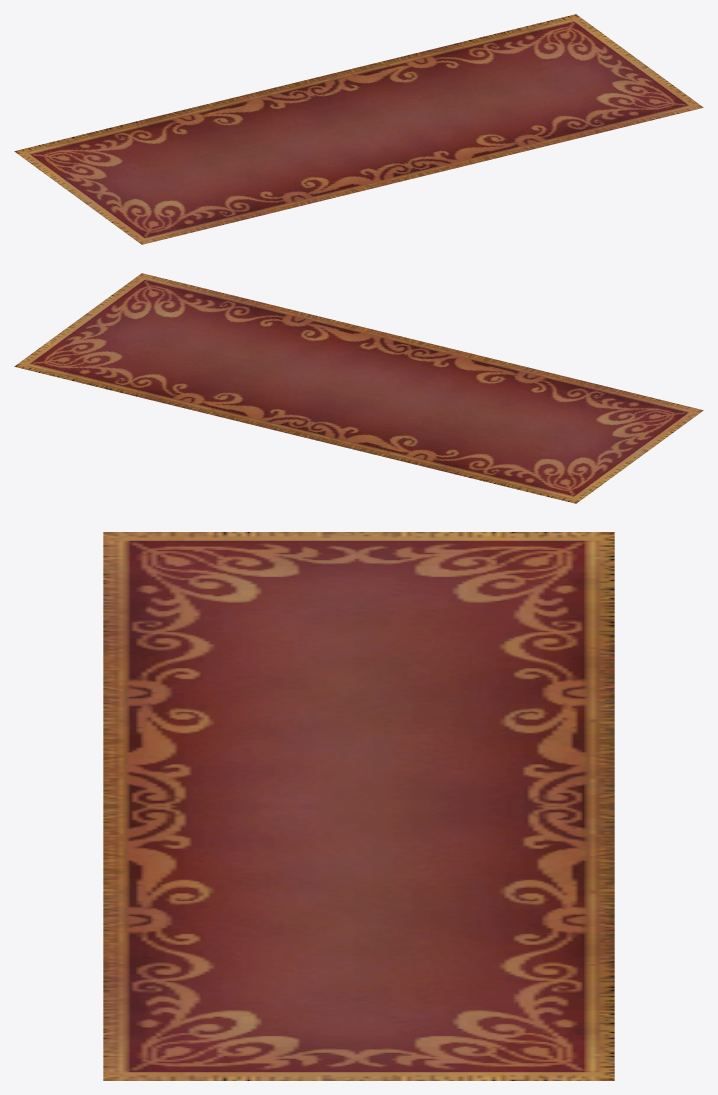
The model's file is WSD_Item_04.FBX.
3 renders of one model, top to bottom at view 1: azimuth 30°, elevation 25°; view 2: azimuth 150°, elevation 25°; view 3: azimuth 270°, elevation 25°, orthographic. The views are drawn at different scales.
Parts seen in each view (by area): view 1: WSD_Item_04; view 2: WSD_Item_04; view 3: WSD_Item_04.
Part boxes in pixels (box(x1,y1,x2,y2)): WSD_Item_04: box(14, 14, 703, 244); WSD_Item_04: box(14, 273, 703, 503); WSD_Item_04: box(103, 532, 614, 1080).
Bounding box in the file's own units: 19.33 × 3.15e-06 × 7.61.
